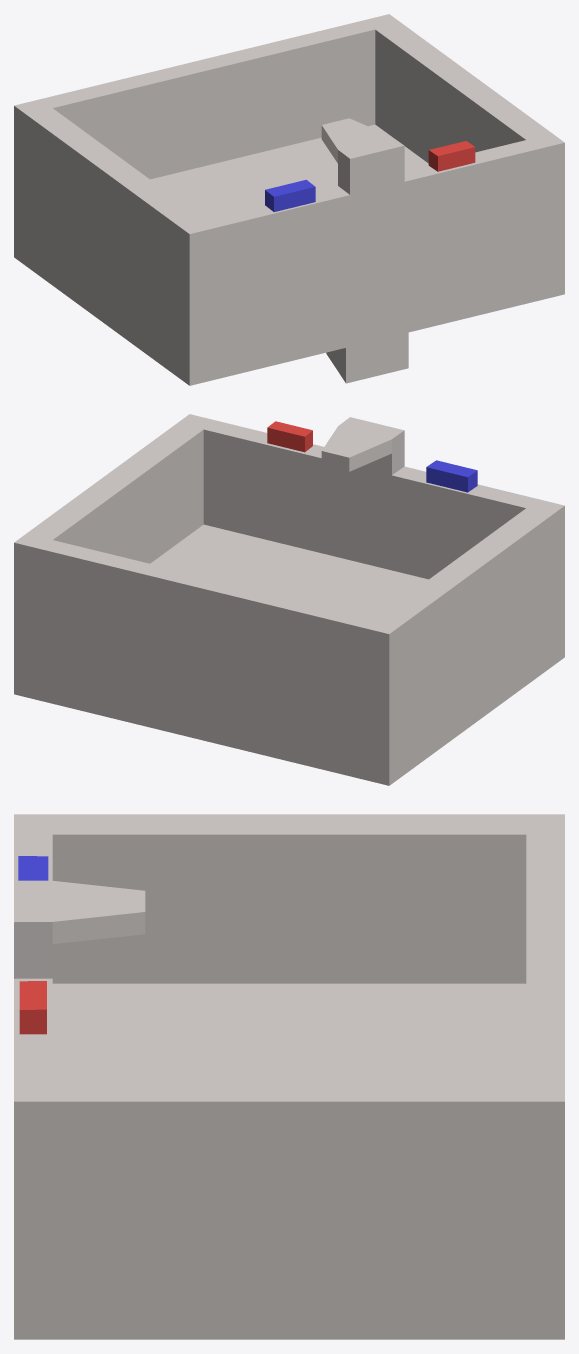
The model's file is umywalka.fbx.
3 renders of one model, top to bottom at view 1: azimuth 30°, elevation 25°; view 2: azimuth 150°, elevation 25°; view 3: azimuth 270°, elevation 25°, orthographic. The views are drawn at different scales.
Visible parts, largest first — view 1: Cube; view 2: Cube; view 3: Cube.
Part boxes in pixels (left/top/right/bottom): Cube: left=14, top=14, right=564, bottom=385; Cube: left=14, top=414, right=564, bottom=785; Cube: left=14, top=814, right=564, bottom=1339.
Size of the model in its own units: 106 by 60.12 by 85.59.
